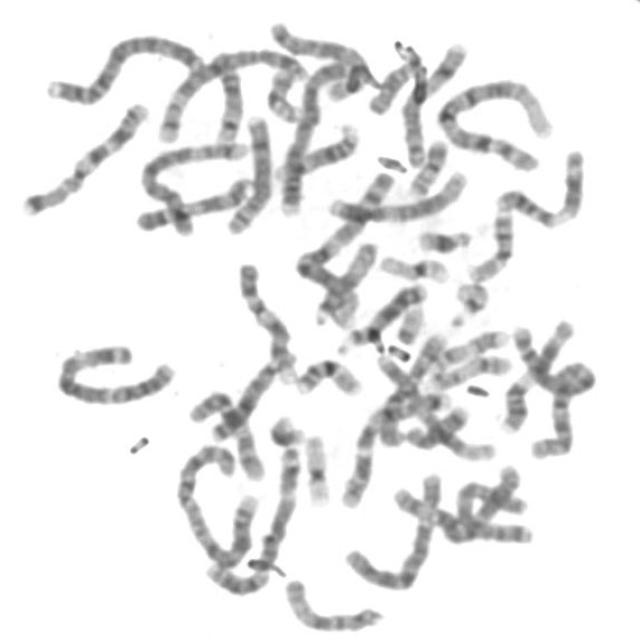A1: (291, 162, 399, 330), (431, 70, 558, 174)
A2: (506, 324, 600, 461), (169, 435, 261, 571)
A3: (197, 438, 304, 594), (50, 336, 180, 407)
B4: (272, 51, 356, 218), (38, 25, 209, 107)
B5: (149, 39, 313, 145), (134, 133, 254, 236)
C10: (373, 325, 453, 448), (182, 381, 269, 482)
C11: (494, 313, 578, 434), (488, 140, 590, 230)
C12: (370, 342, 501, 464), (325, 162, 472, 225)
C6: (337, 466, 445, 592), (387, 478, 537, 546)
C7: (13, 92, 154, 219), (334, 384, 464, 509)
C8: (396, 39, 472, 170), (221, 106, 277, 236)
C9: (230, 254, 301, 386), (134, 171, 262, 235)
D13: (206, 346, 297, 443), (333, 274, 430, 355)
D14: (266, 115, 363, 183), (200, 41, 247, 146)
D15: (277, 570, 388, 634), (307, 233, 381, 328)
E16: (462, 202, 518, 284), (288, 350, 365, 398)
E17: (422, 320, 512, 384), (420, 346, 516, 391)
E18: (361, 51, 421, 117), (399, 398, 472, 450)
F19: (372, 246, 454, 285), (298, 425, 335, 508)
F20: (400, 131, 452, 198), (259, 62, 306, 123)
G21: (411, 220, 476, 255), (262, 407, 308, 448)
G22: (443, 273, 493, 330), (389, 296, 429, 346)
X: (262, 14, 374, 103), (461, 482, 552, 548)
